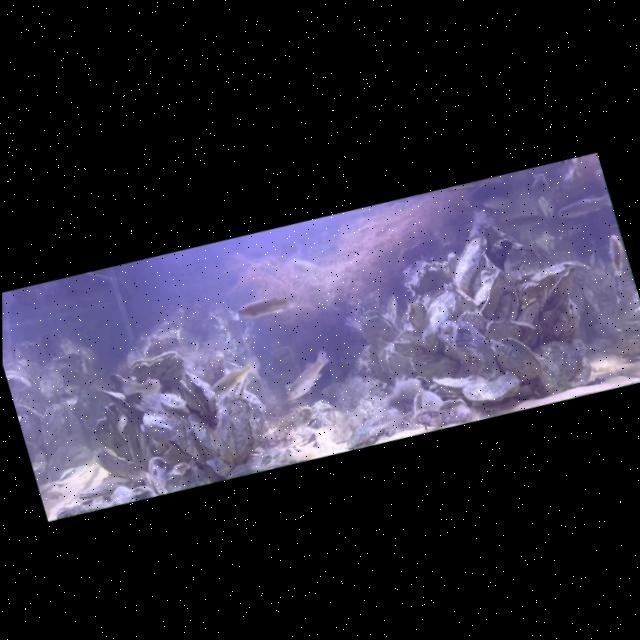Oyster-Closed: (136, 380, 205, 475), (433, 306, 503, 390), (410, 286, 467, 357), (443, 229, 500, 296), (458, 365, 524, 412), (534, 334, 584, 387), (467, 264, 513, 321), (226, 393, 264, 460), (73, 469, 135, 507), (204, 405, 243, 465), (186, 407, 223, 465), (530, 345, 571, 397), (431, 363, 487, 401), (409, 350, 460, 385), (441, 273, 479, 318), (101, 382, 136, 418)
Oyster-Indeterminate: (31, 397, 79, 462), (87, 411, 134, 470), (512, 256, 579, 297), (536, 264, 585, 314), (405, 255, 456, 301), (240, 387, 275, 449), (108, 364, 148, 411), (14, 398, 50, 449), (485, 280, 525, 325), (90, 440, 131, 483), (456, 303, 493, 343), (433, 393, 474, 429), (138, 328, 181, 362), (483, 311, 523, 347), (144, 453, 175, 497), (510, 294, 547, 330), (402, 297, 432, 334), (391, 334, 427, 363)
Oyster-Open: (487, 324, 545, 389), (128, 345, 189, 394), (177, 364, 222, 421), (354, 300, 402, 353), (407, 385, 449, 430), (4, 362, 39, 399), (303, 413, 326, 431)
